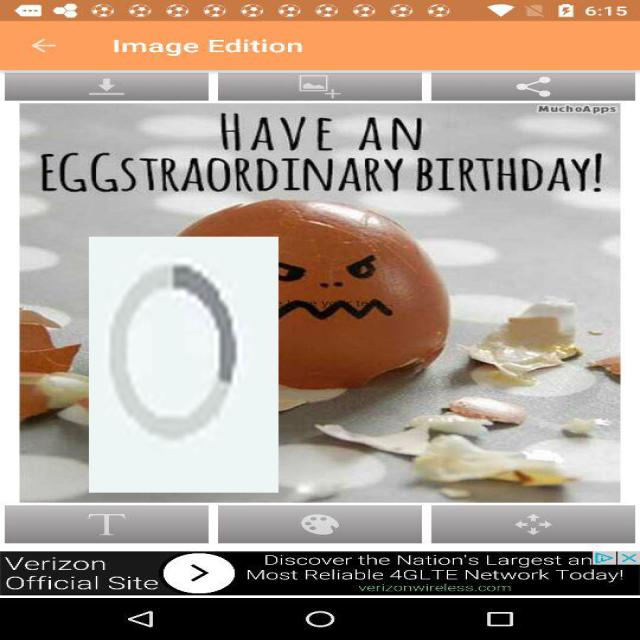misdirection: (89, 237, 278, 492)
